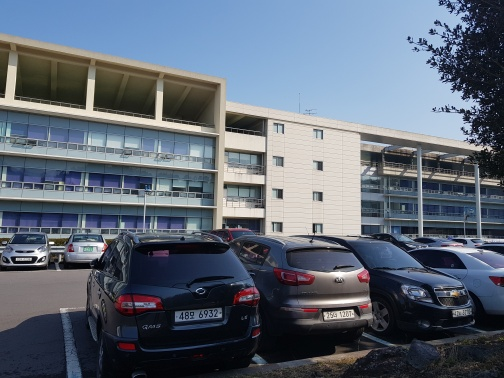Engineering College Building 4: (15, 61, 496, 227), (6, 39, 223, 231), (225, 105, 494, 233)
